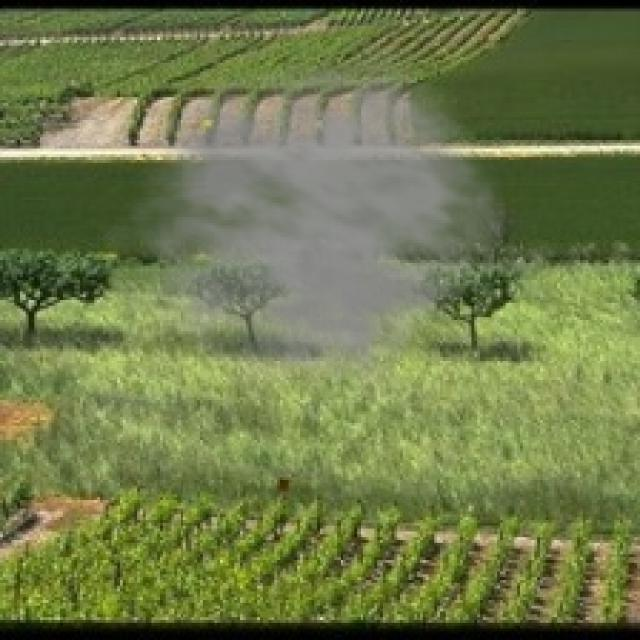smoke: (97, 49, 509, 408)
